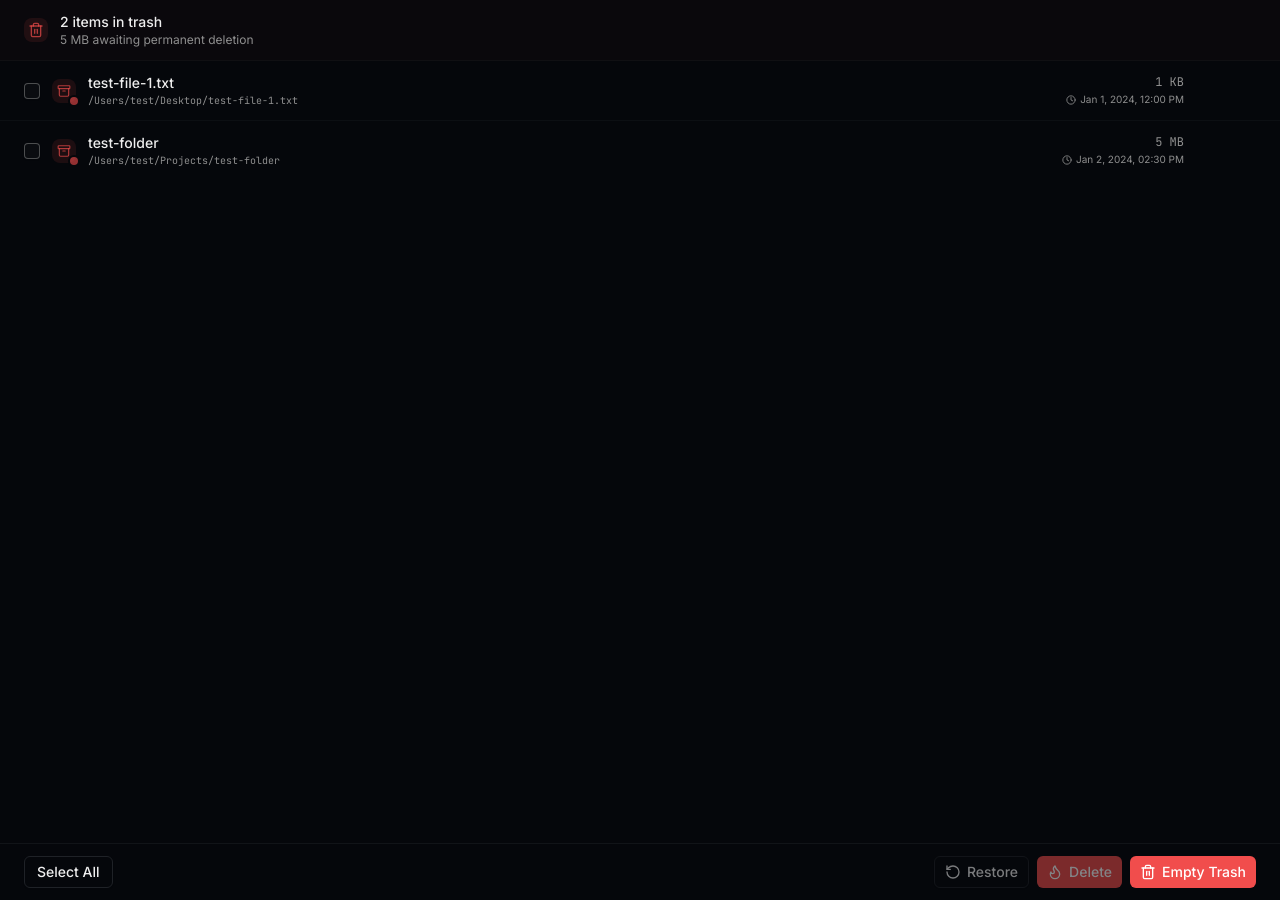
TrashView › Empty trash (purge) behavior › shows confirmation dialog when clicking empty trash
The image size is (1280, 900).
Click the button "Empty Trash": (1193, 872) top-left (1130, 856), bottom-right (1256, 888)
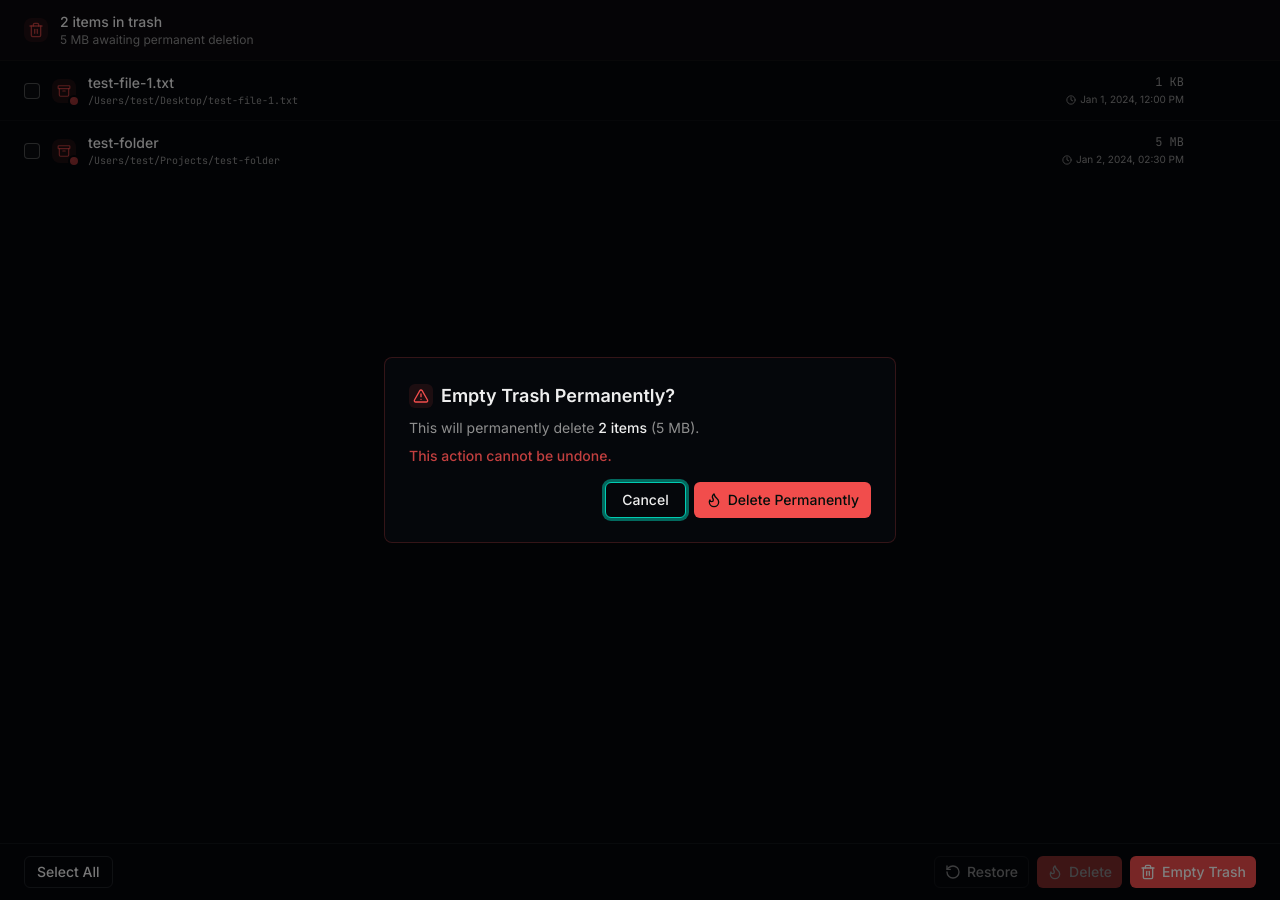
Check: the heading "Empty Trash Permanently?" is shown, box top-left (409, 384), bottom-right (675, 408)
Check: the text "This will permanently delete 2 items (5 MB)." is shown, box top-left (409, 419), bottom-right (699, 436)
